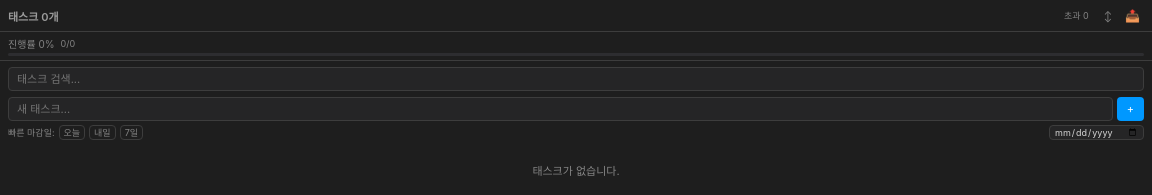
Test case: TasksPanel › 태스크 추가 시 localStorage에 저장된다
The image size is (1152, 195).
Type "저장 테스트" into the field with placeholder "새 태스크...". click: {"x": 560, "y": 109}
box: [8,97,1113,121]
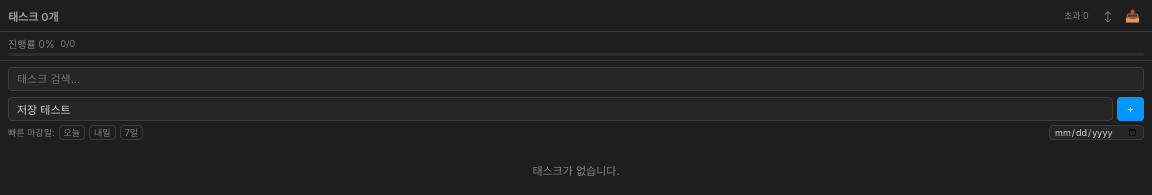
Press Enter in the field with placeholder "새 태스크...", box [8,97,1113,121]
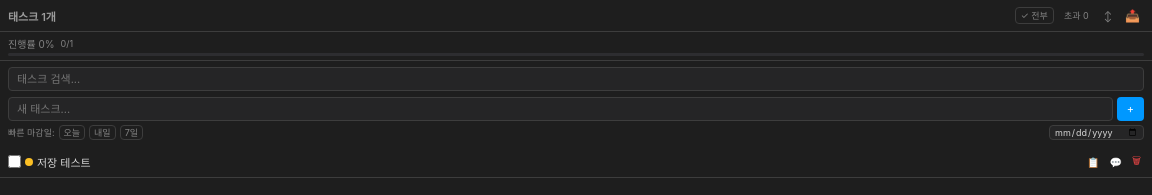
Now the text "저장 테스트" is shown, box [37,156,91,170]
